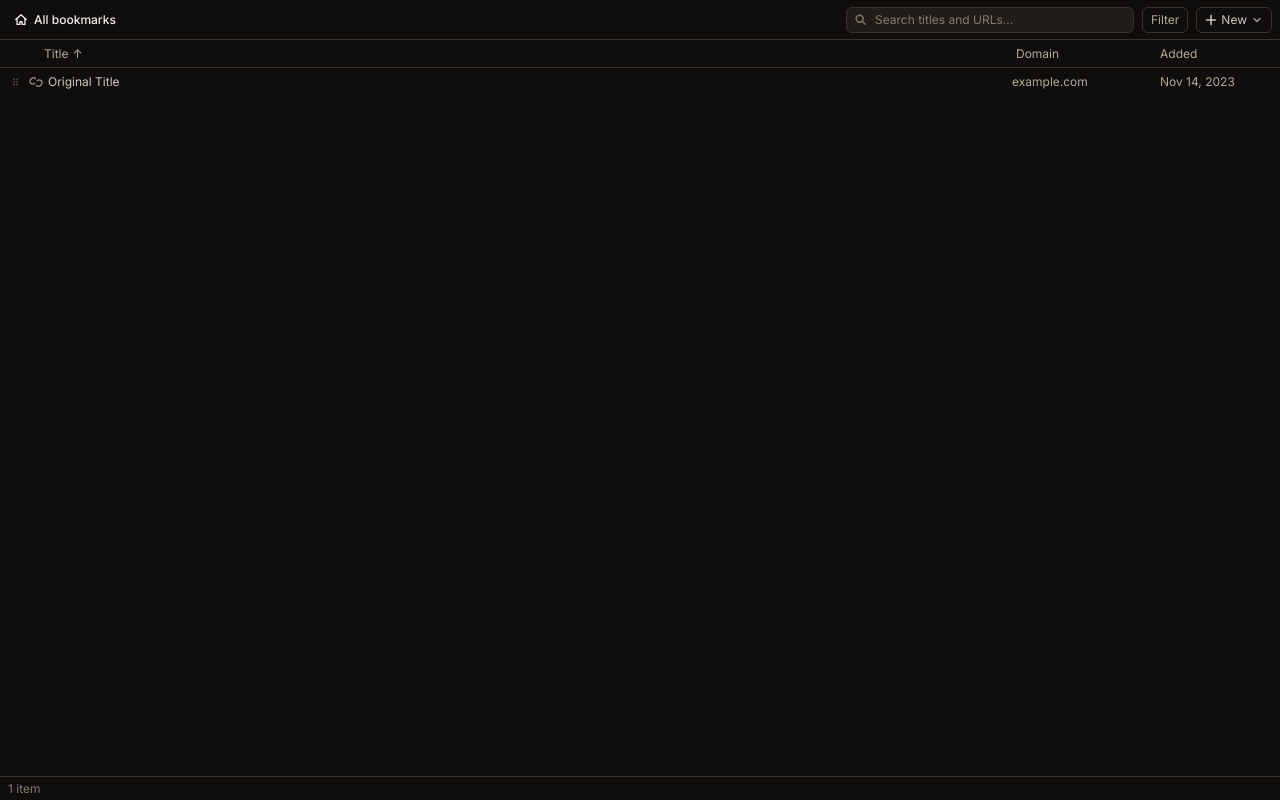
ListPane inline rename (v0.0.11) › double-click on a row's title cell swaps it for an input; Escape cancels
Double-click swaps it for the rename input.
Double-click the text "Original Title": point(84, 82) left=48, top=74, right=120, bottom=89
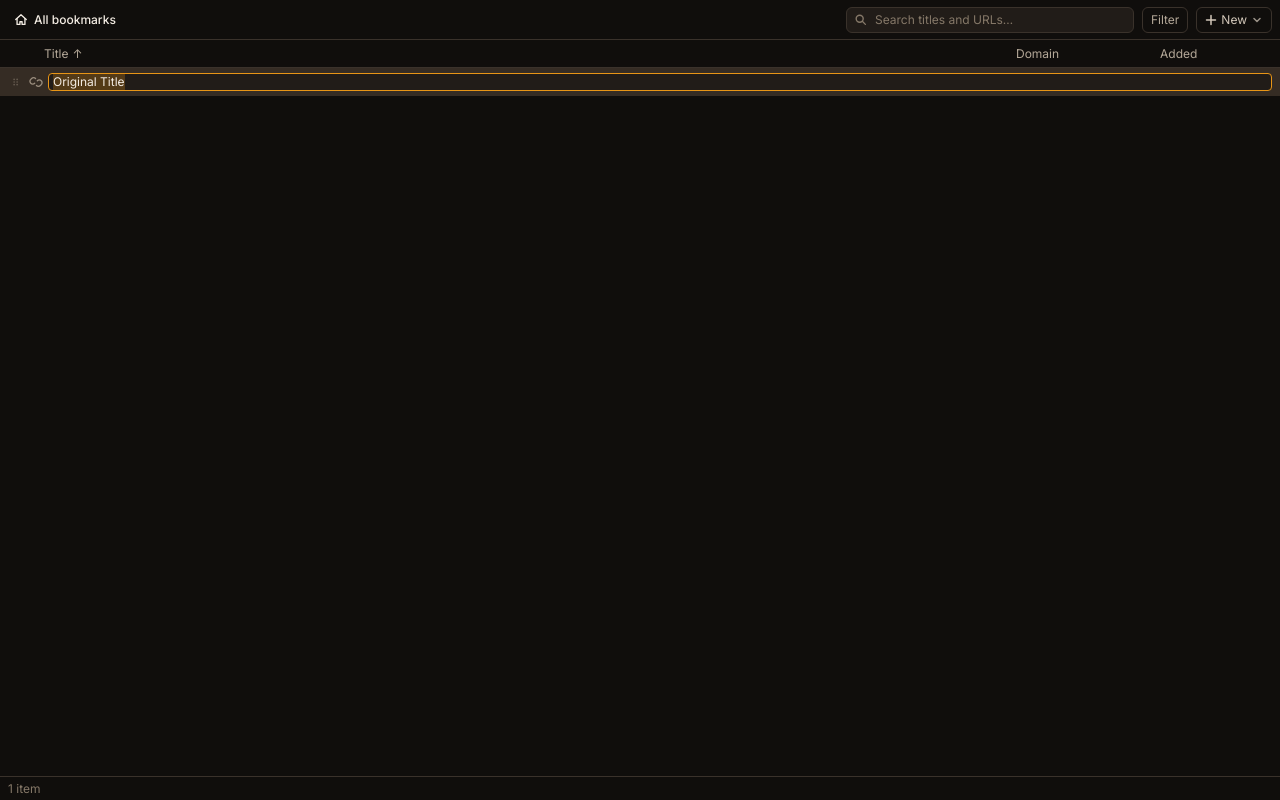
Expected: the field holds "Original Title", left=48, top=73, right=1272, bottom=91
Escape cancels: input goes away, original title is preserved.
Press Escape
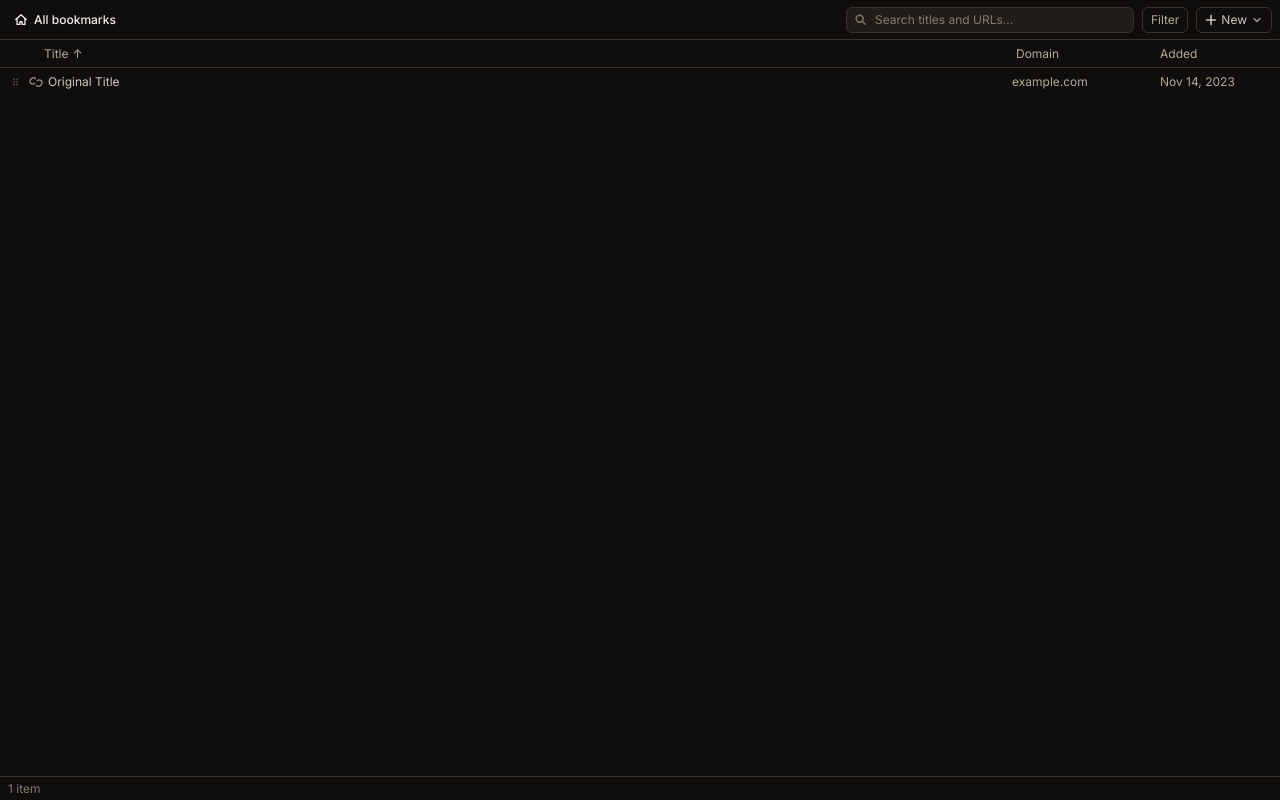
Expected: the text "Original Title" is shown, left=48, top=74, right=120, bottom=89
